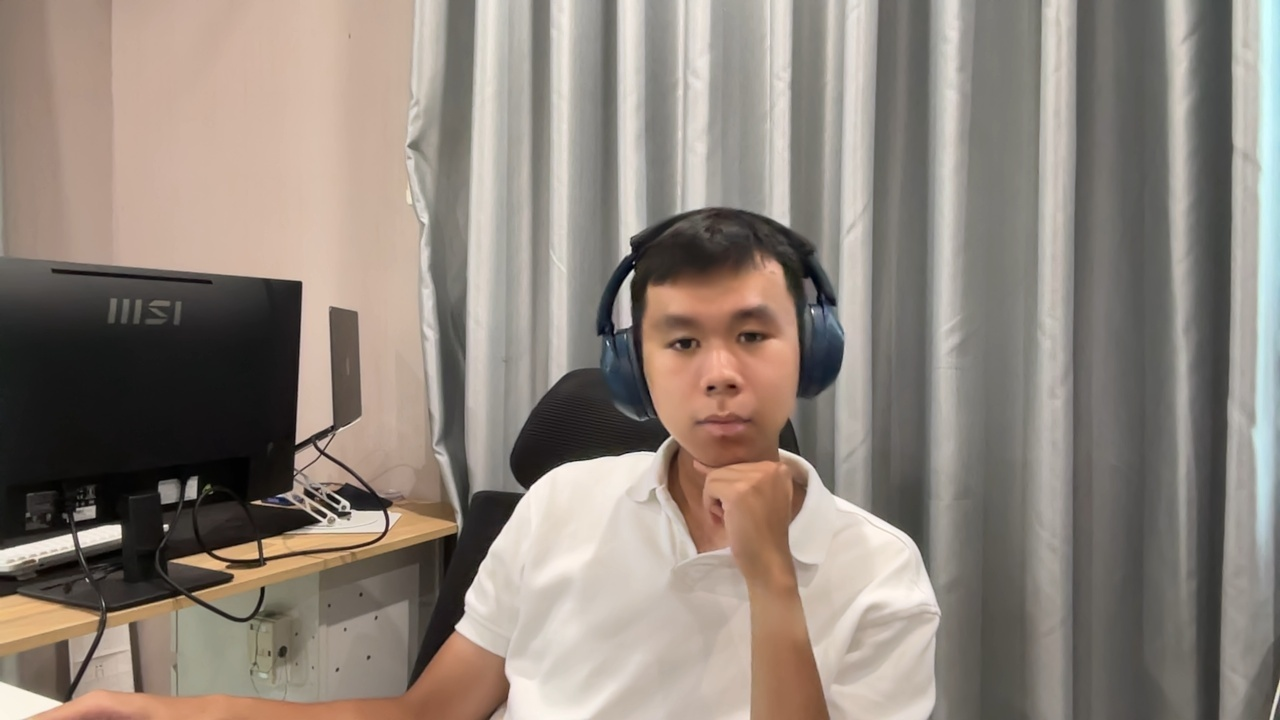over_ear: (595, 206, 848, 425), (595, 209, 714, 427)
